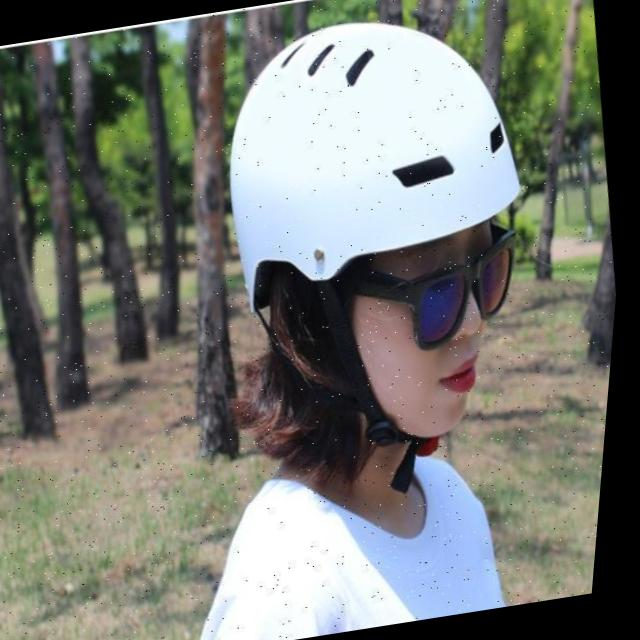helmet: (187, 0, 581, 519)
